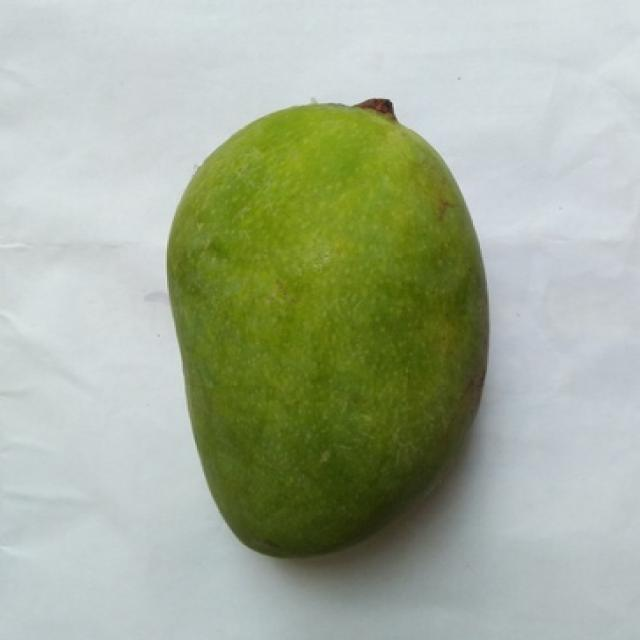Mango: (167, 103, 487, 556)
